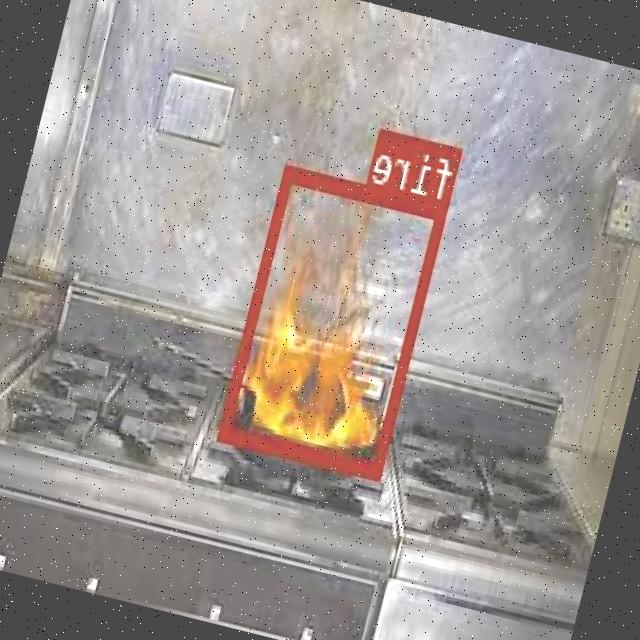fire: (220, 163, 450, 478)
